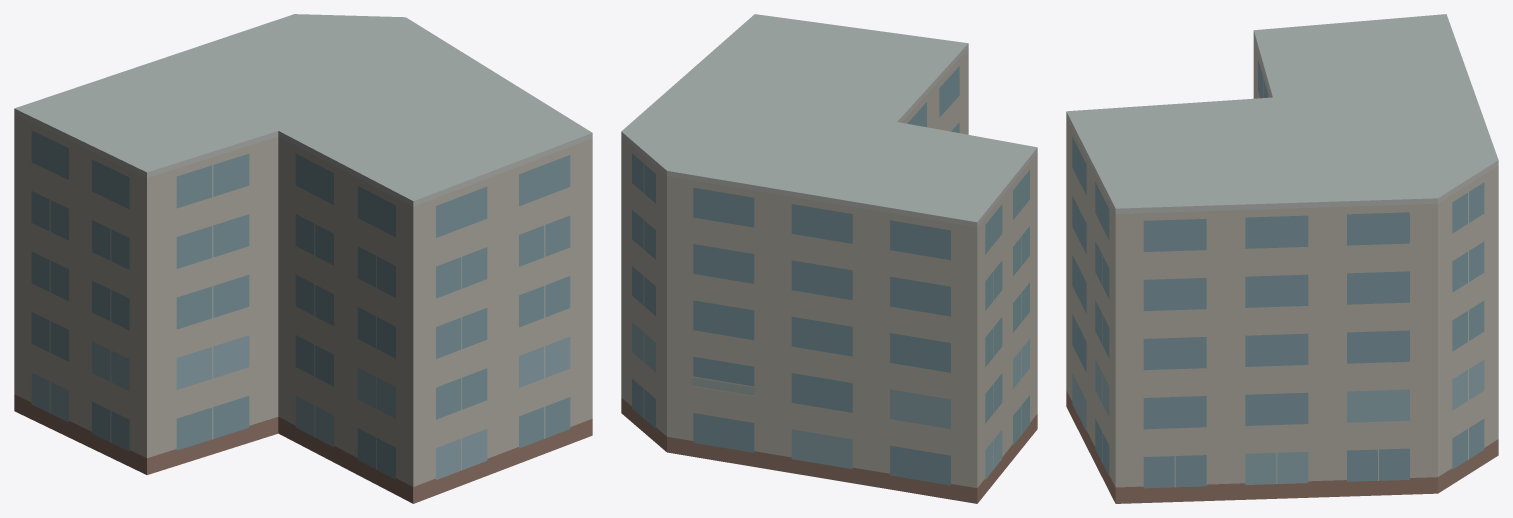
Rendered from survey-upis-32576140.glb.
3 renders of one model, left to right at view 1: azimuth 30°, elevation 25°; view 2: azimuth 150°, elevation 25°; view 3: azimuth 270°, elevation 25°, orthographic. The views are drawn at different scales.
Parts seen in each view (by area): view 1: survey-upis-32576140.tmp; view 2: survey-upis-32576140.tmp; view 3: survey-upis-32576140.tmp.
Boxes of the visible parts, x1,y1,x2,y2 form: survey-upis-32576140.tmp: (14,14,592,503); survey-upis-32576140.tmp: (621,14,1037,503); survey-upis-32576140.tmp: (1066,14,1498,503).
Bounding box in the file's own units: 18.67 × 13.2 × 17.53.
